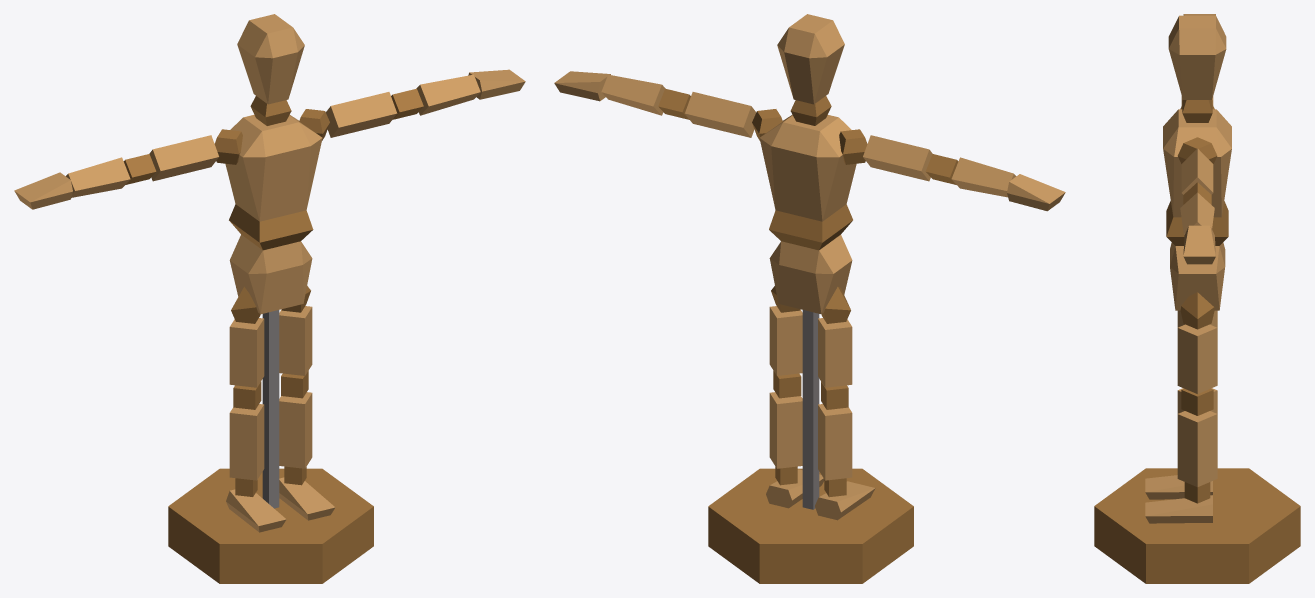
The model's file is furniture_dummy-small_t.fbx.
The picture shows the model from 3 angles, left to right: view 1: azimuth 30°, elevation 25°; view 2: azimuth 150°, elevation 25°; view 3: azimuth 270°, elevation 25°; orthographic projection.
Parts seen in each view (by area): view 1: furniture_dummy_small_t; view 2: furniture_dummy_small_t; view 3: furniture_dummy_small_t.
Part boxes in pixels (x1,y1,x2,y2): furniture_dummy_small_t: [14, 14, 525, 583]; furniture_dummy_small_t: [554, 14, 1065, 583]; furniture_dummy_small_t: [1094, 14, 1300, 583].
Size of the model in its own units: 199 by 200 by 71.38.
